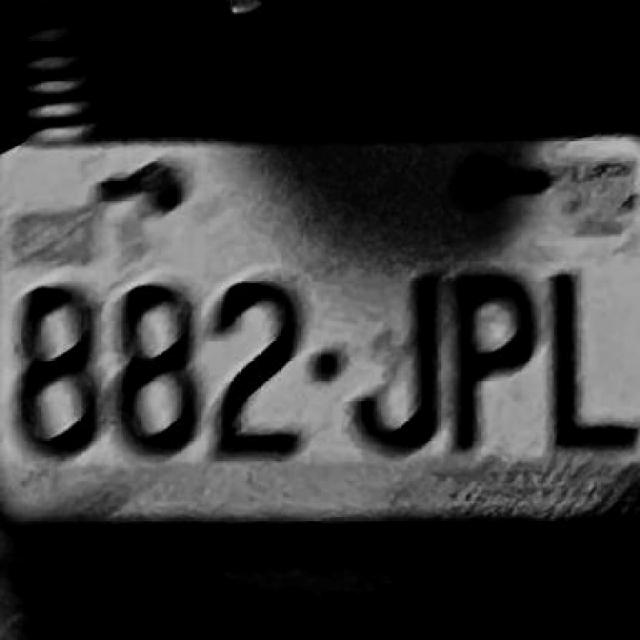-: (309, 344, 342, 382)
2: (205, 274, 306, 463)
8: (108, 278, 203, 460), (8, 282, 103, 458)
J: (346, 269, 439, 463)
L: (544, 264, 630, 450)
P: (451, 260, 537, 454)
